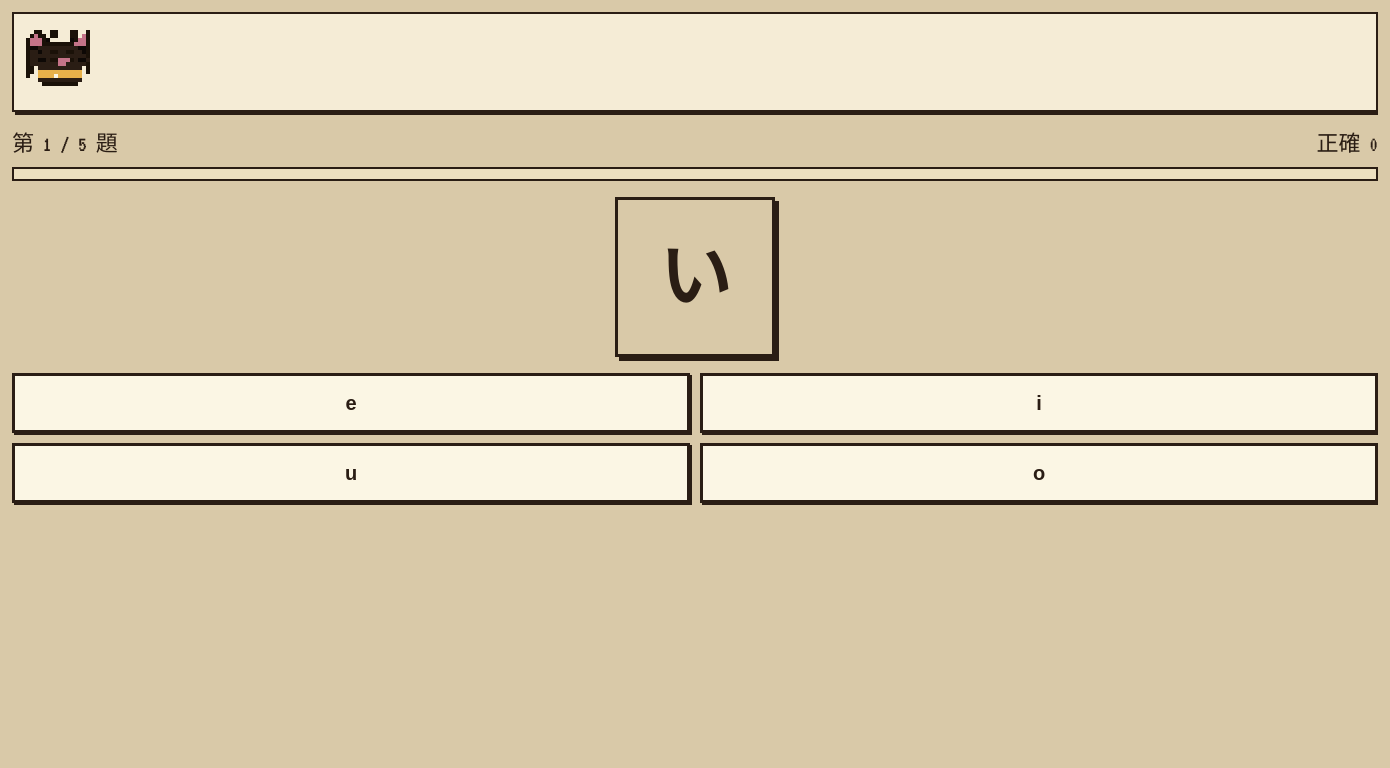
Test case: FlashCardQuiz › shows "下一題" button after picking when autoNext is off
Click the button "e".
click(351, 403)  # box [12, 373, 690, 433]
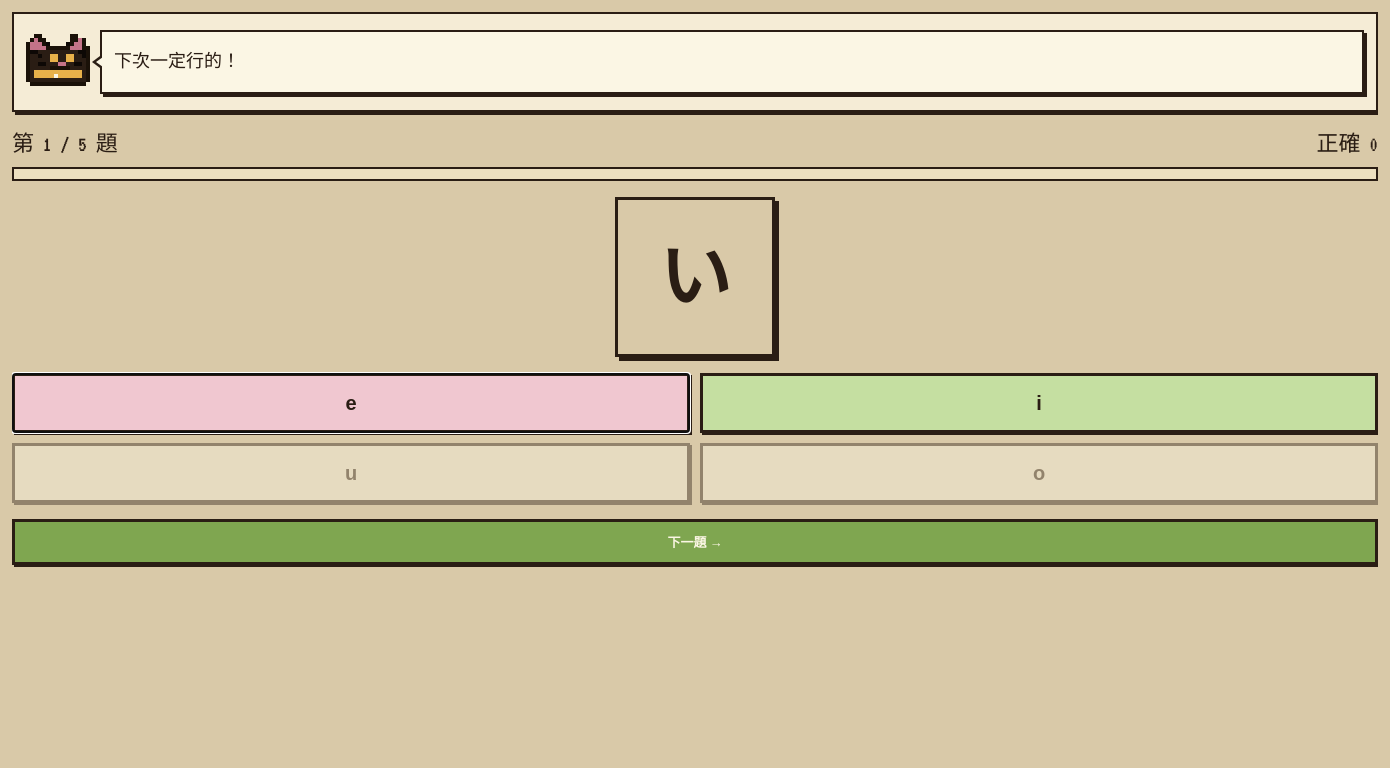
Check: the button "下一題 →" is shown, box [12, 519, 1378, 564]
